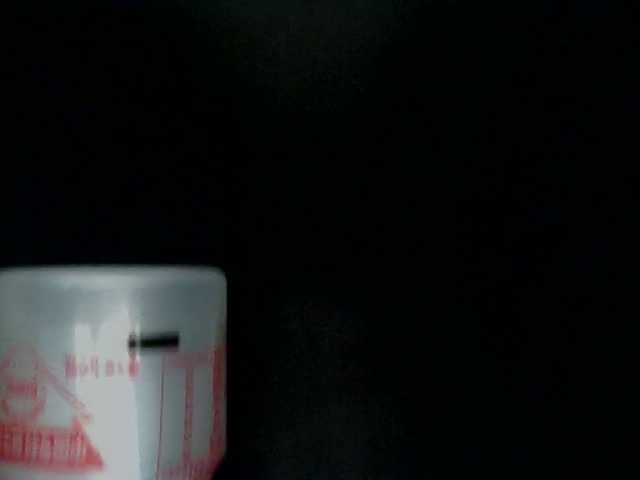CYLJ: (390, 132, 492, 250)
